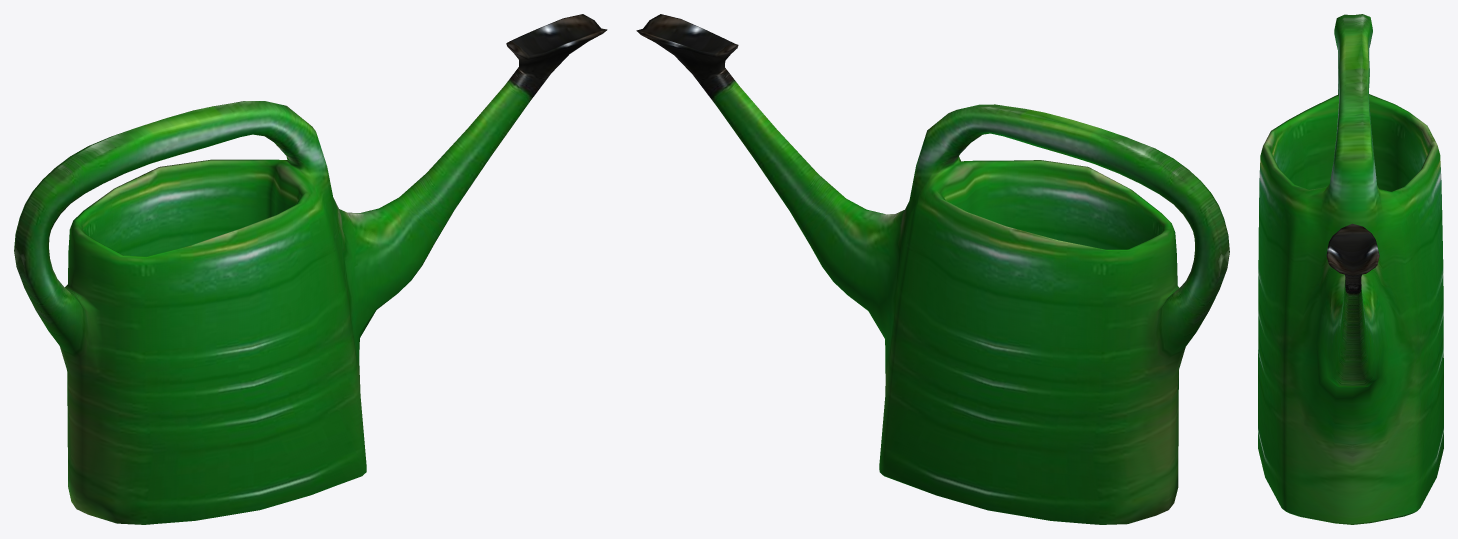
The model's file is gieter.fbx.
The picture shows the model from 3 angles, left to right: view 1: azimuth 30°, elevation 25°; view 2: azimuth 150°, elevation 25°; view 3: azimuth 270°, elevation 25°; orthographic projection. The views are drawn at different scales.
Parts seen in each view (by area): view 1: pCube1; view 2: pCube1; view 3: pCube1.
Boxes of the visible parts, x1=… form: pCube1: x1=14, y1=14, x2=607, y2=524; pCube1: x1=636, y1=14, x2=1229, y2=524; pCube1: x1=1258, y1=14, x2=1443, y2=524.
Bounding box in the file's own units: 18.88 × 11.53 × 5.
